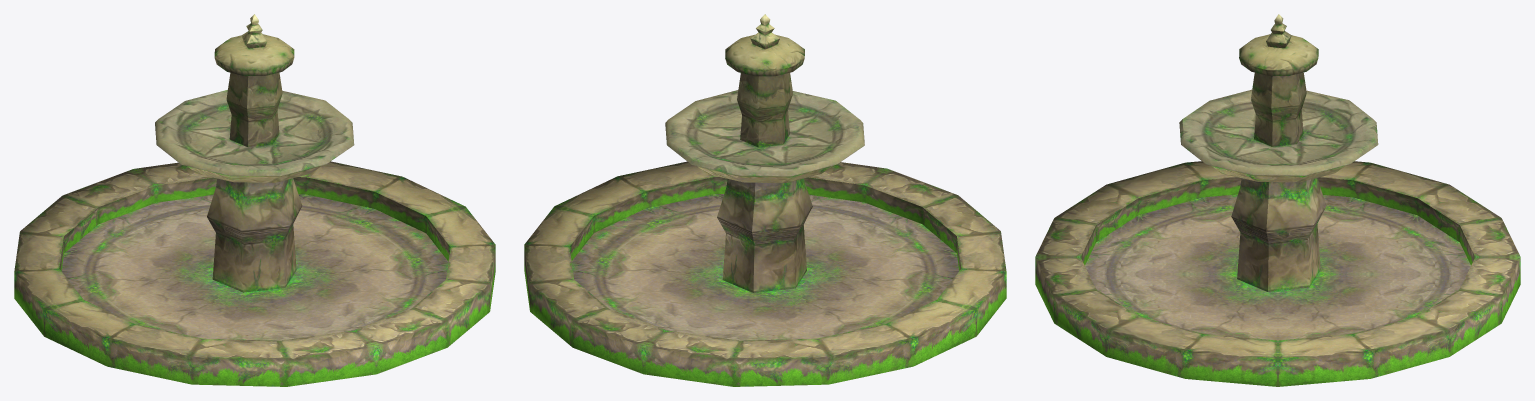
File: stone_penquan.FBX
The picture shows the model from 3 angles, left to right: view 1: azimuth 30°, elevation 25°; view 2: azimuth 150°, elevation 25°; view 3: azimuth 270°, elevation 25°; orthographic projection.
Visible parts, largest first — view 1: stone_penquan; view 2: stone_penquan; view 3: stone_penquan.
Boxes of the visible parts, bbox=[...] form: stone_penquan: bbox=[14, 14, 495, 386]; stone_penquan: bbox=[524, 14, 1006, 386]; stone_penquan: bbox=[1035, 14, 1520, 386].
Size of the model in its own units: 1781 by 1094 by 1781.
